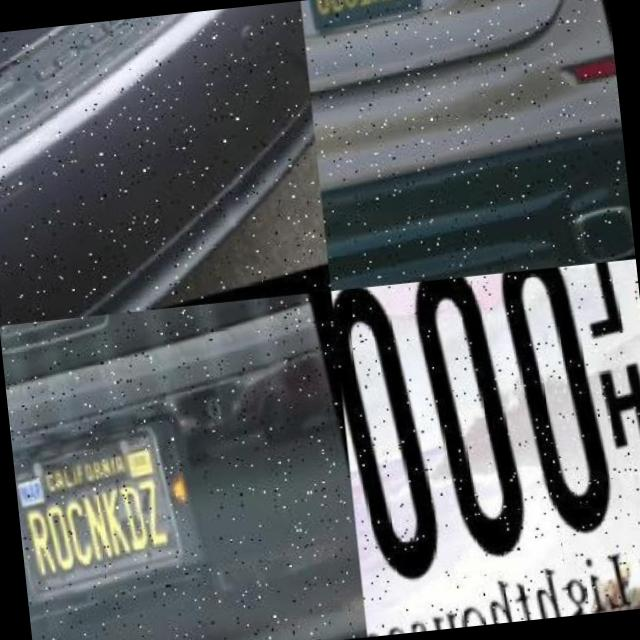LicensePlate: (331, 262, 638, 637), (12, 430, 180, 604), (299, 0, 422, 47)
